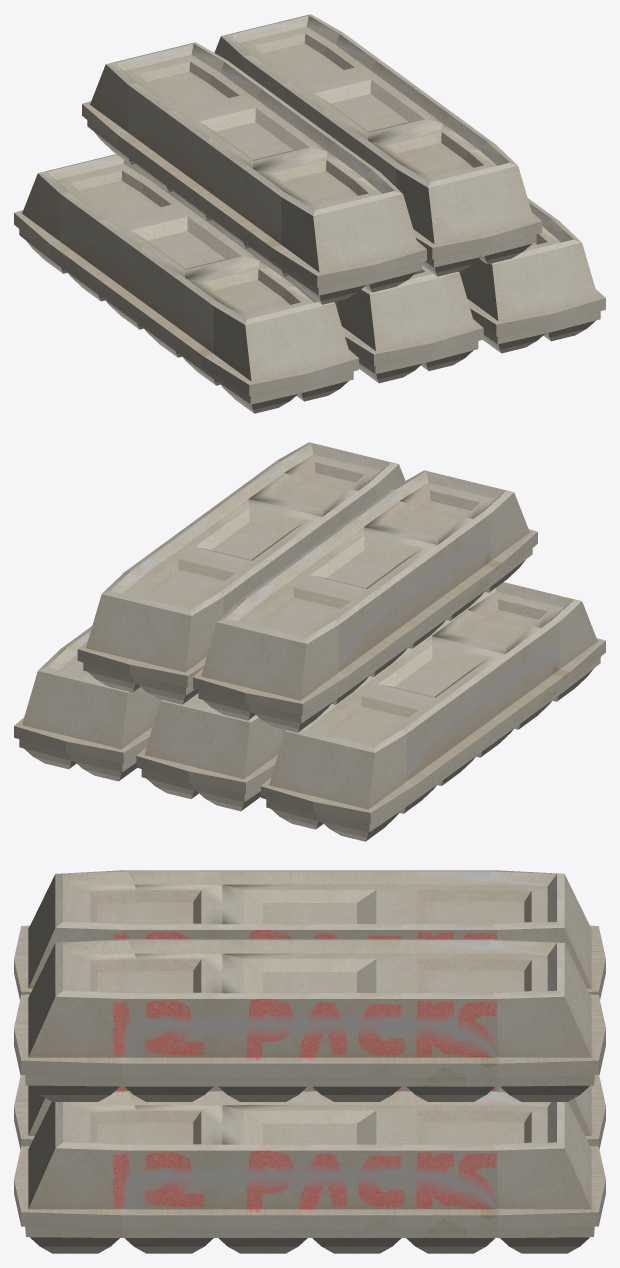
Rendered from eggs_Large.fbx.
3 views of the same model, one above another, from view 1: azimuth 30°, elevation 25°; view 2: azimuth 150°, elevation 25°; view 3: azimuth 270°, elevation 25° (orthographic). The views are drawn at different scales.
Visible parts, largest first — view 1: Egg_carton.003; view 2: Egg_carton.003; view 3: Egg_carton.003.
Boxes of the visible parts, box(x1,y1,x2,y2) form: Egg_carton.003: box(14, 14, 605, 413); Egg_carton.003: box(14, 442, 605, 841); Egg_carton.003: box(14, 870, 605, 1253).
Size of the model in its own units: 213 by 103 by 243.
Materials: 1 (1 with a texture image).
